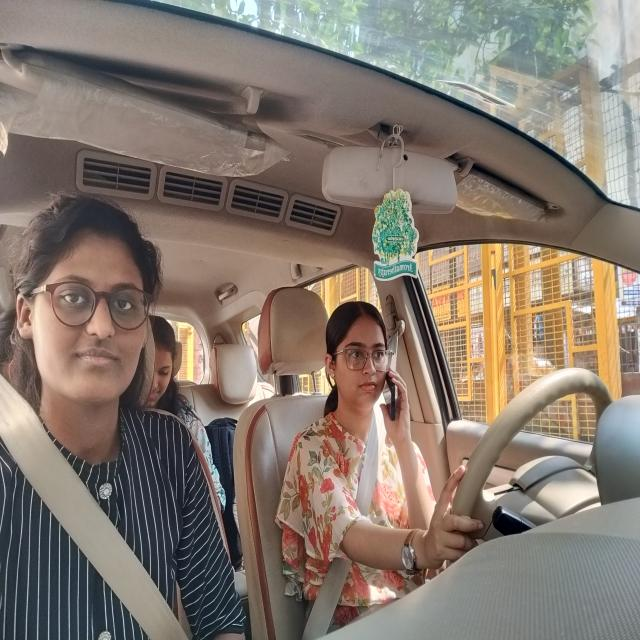mobile: (382, 362, 399, 430)
person: (13, 193, 161, 424), (324, 298, 387, 418), (151, 313, 181, 407)
